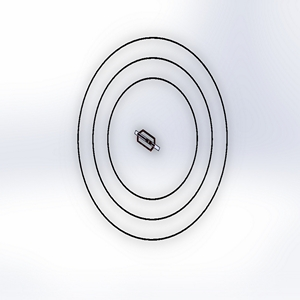circle: (74, 31, 232, 251)
submarine: (127, 121, 165, 163)
